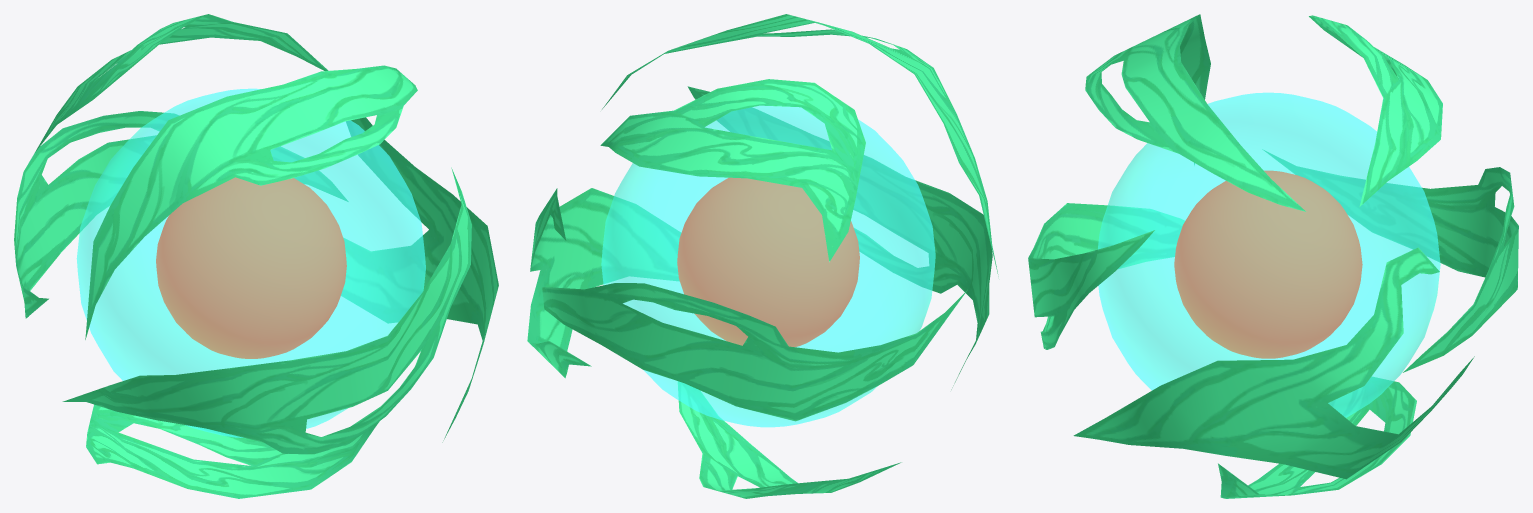
The model's file is healthorbs.gltf.
3 views of the same model, side by side, from view 1: azimuth 30°, elevation 25°; view 2: azimuth 150°, elevation 25°; view 3: azimuth 270°, elevation 25° (orthographic). The views are drawn at different scales.
Parts seen in each view (by area): view 1: spirit smoke, outer orb, inner orb; view 2: spirit smoke, outer orb, inner orb; view 3: spirit smoke, outer orb, inner orb.
Part boxes in pixels (box(x1,y1,x2,y2)): spirit smoke: box(14, 14, 498, 498); outer orb: box(76, 88, 425, 437); inner orb: box(156, 177, 346, 358); spirit smoke: box(527, 14, 998, 498); outer orb: box(601, 105, 935, 427); inner orb: box(677, 177, 859, 346); spirit smoke: box(1028, 14, 1518, 498); outer orb: box(1098, 92, 1440, 417); inner orb: box(1174, 170, 1362, 358).
Bounding box in the file's own units: 2.16 × 2.21 × 2.23.
3 materials, 1 textured.
